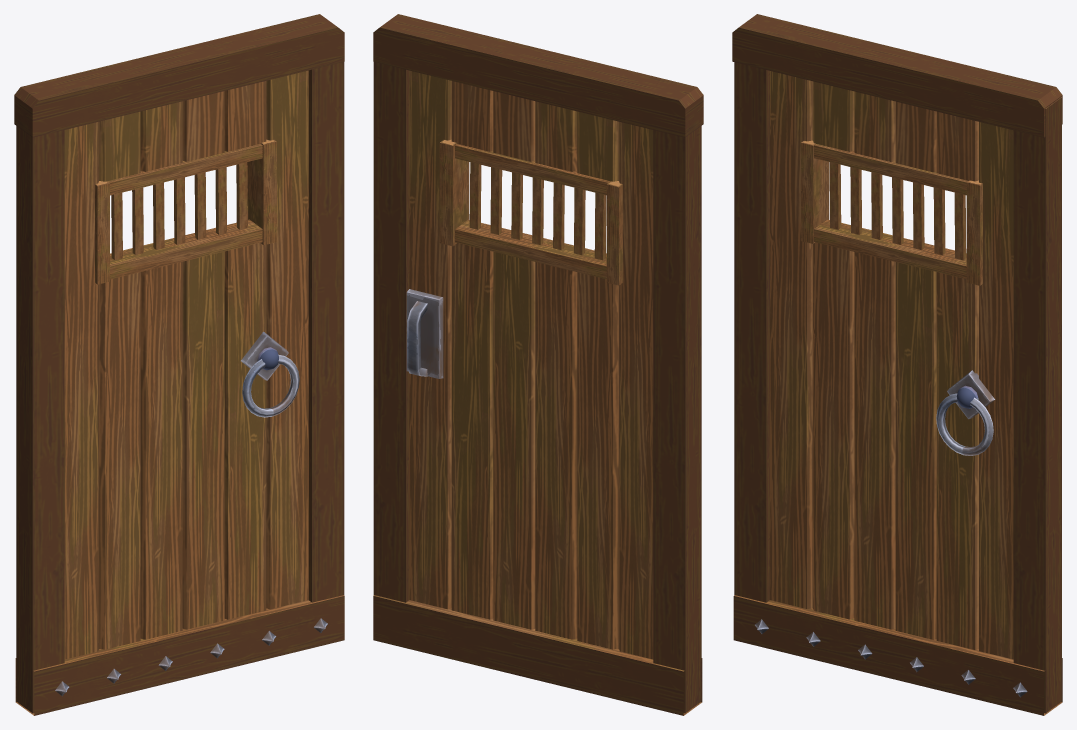
File: Door_8_Flat.gltf
The picture shows the model from 3 angles, left to right: view 1: azimuth 30°, elevation 25°; view 2: azimuth 150°, elevation 25°; view 3: azimuth 330°, elevation 25°; orthographic projection.
Parts seen in each view (by area): view 1: Door_8_Flat; view 2: Door_8_Flat; view 3: Door_8_Flat.
Boxes of the visible parts, left/top/right/bottom form: Door_8_Flat: left=14, top=14, right=344, bottom=715; Door_8_Flat: left=373, top=14, right=703, bottom=715; Door_8_Flat: left=732, top=14, right=1062, bottom=715.
Bounding box in the file's own units: 1.12 × 2.1 × 0.1995.
Materials: 2 (2 with a texture image).
